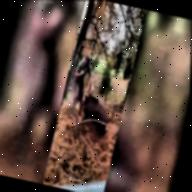boar: (72, 85, 124, 142)
